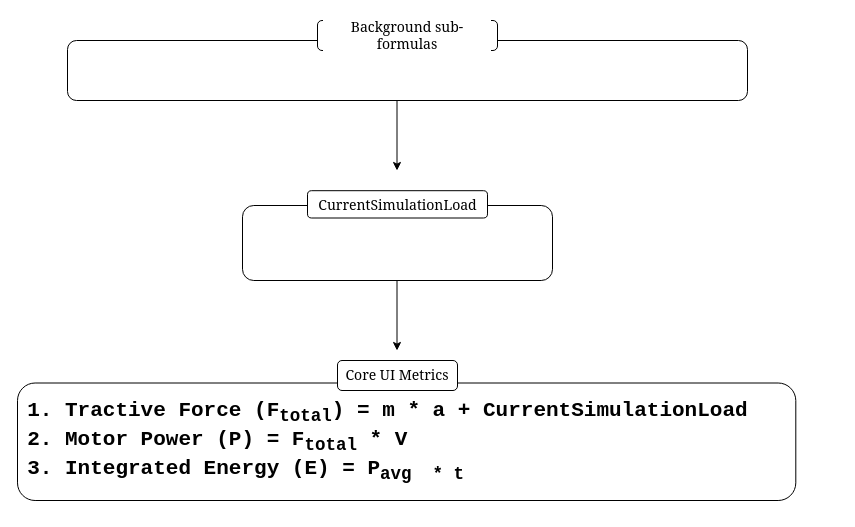
The diagram is 855 pixels wide and 527 high, and some of its shapes have lost their labels. The centre of each missing label's shape, as x and y in pixels:
F drag (Air) + F rolling (friction) + F gravity (slope): pixel 407 70
Programmatic Bundle Load: pixel 397 242
